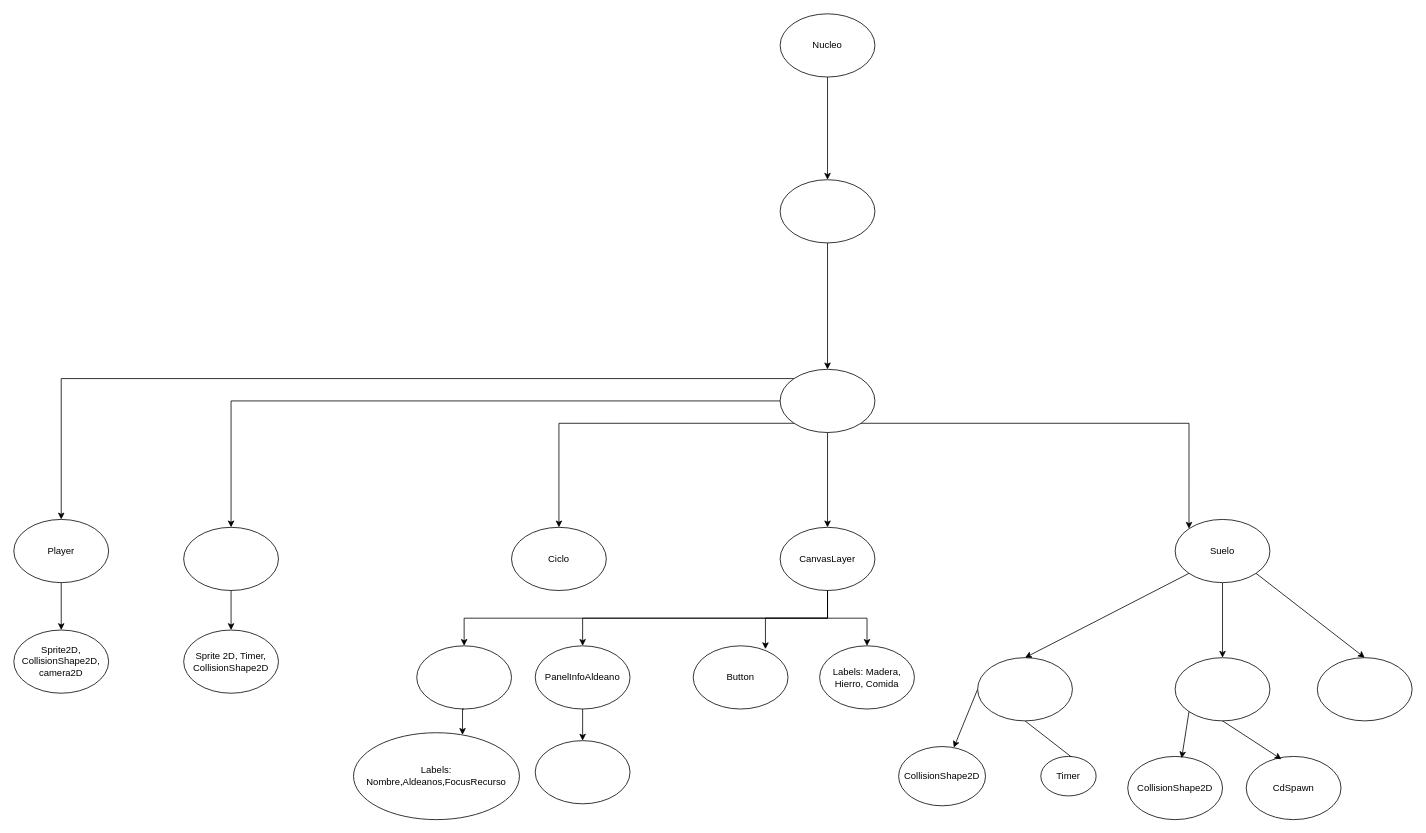
This 1426x833 diagram has some shape labels left out. Here are the shapes that lost their labels. From the top down, the centre of each, then its label:
At point (827, 211): "Menu".
At point (827, 401): "EscenaPrincipal".
At point (230, 559): "Aldeano".
At point (464, 677): "PanelInfoCasa".
At point (1024, 689): "AreaRecursos".
At point (1222, 689): "SpawnAldeano".
At point (1364, 689): "TileMap".
At point (582, 772): "Labels: Nombre,recurso,casa".
